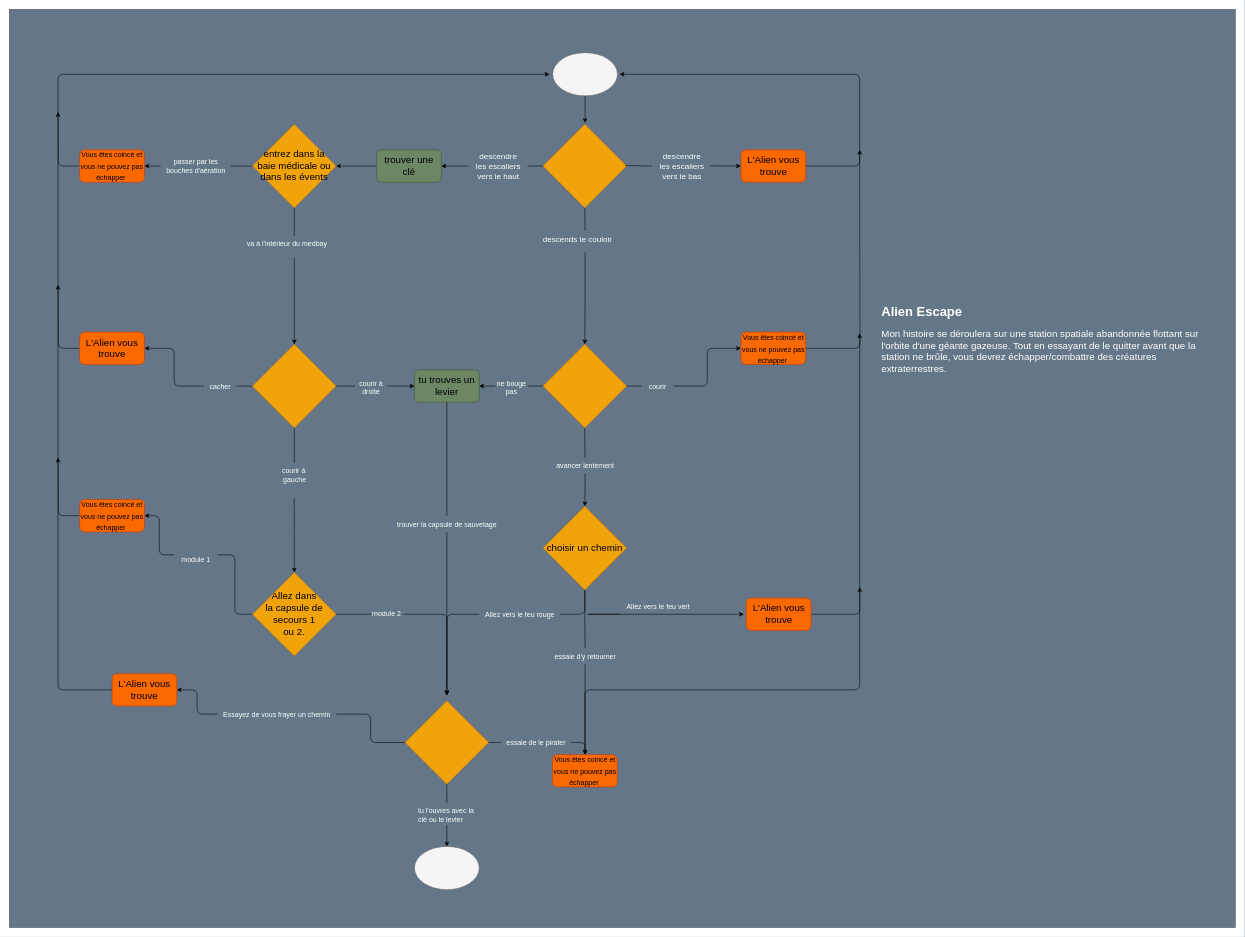
Image size: 1245x937. Some labels were removed from this diagram. The centre of each missing label's shape, as x and y in pixels:
"cachez-vous du bruit ou courez" belongs at point (294, 386).
"Continuez dans l e couloir ou suivez les escaliers" belongs at point (584, 166).
"Essayez d'ouvrir la trappe" belongs at point (446, 742).
"la station commence à trembler" belongs at point (584, 386).
"Tu te réveilles" belongs at point (584, 74).
"Vous ete sauver" belongs at point (446, 868).
